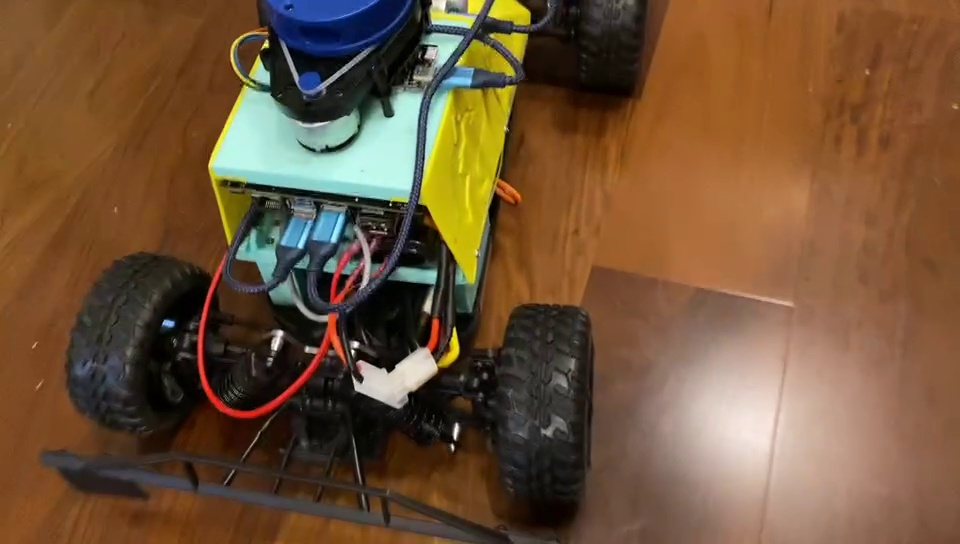mushr_car: (17, 1, 668, 536)
